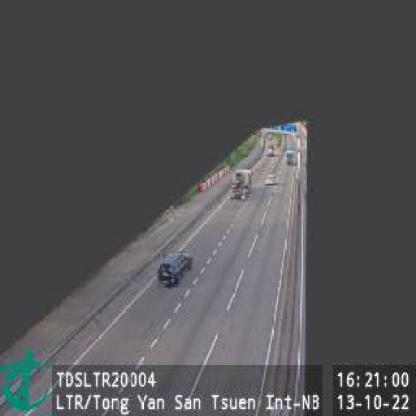Car: (158, 249, 191, 285), (284, 148, 296, 166), (265, 172, 278, 186)
Truck: (233, 166, 252, 198)
